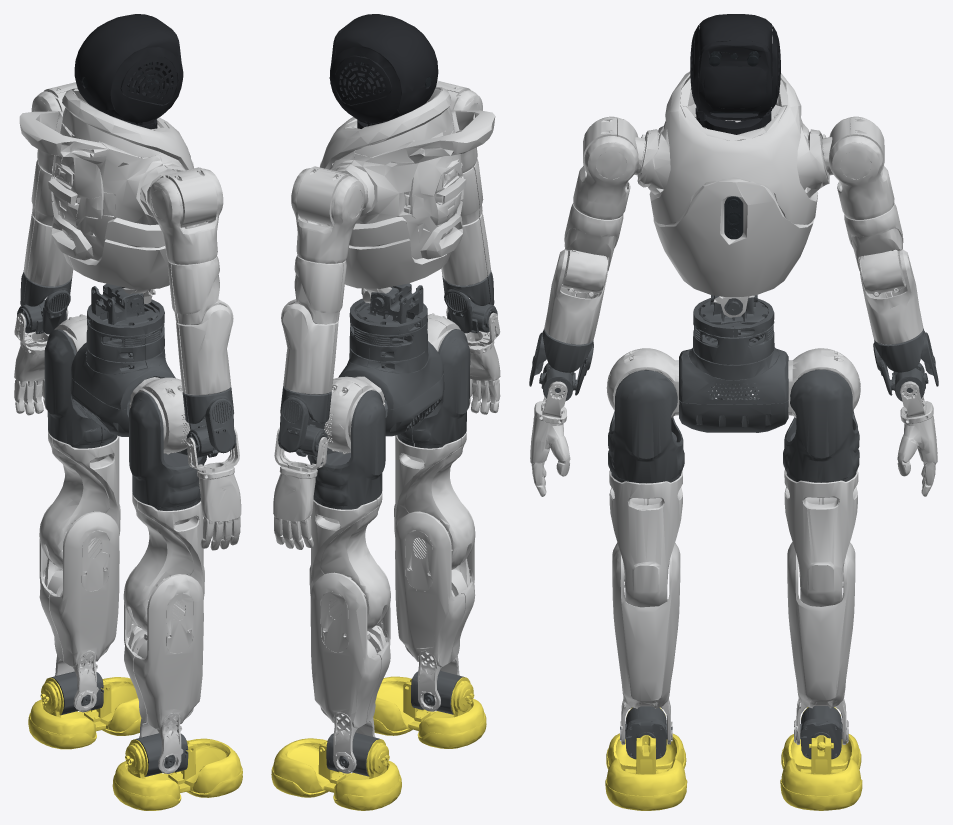
The model's file is x2-ultra.glb.
3 views of the same model, side by side, from view 1: azimuth 30°, elevation 25°; view 2: azimuth 150°, elevation 25°; view 3: azimuth 270°, elevation 25° (orthographic). The views are drawn at different scales.
Visible parts, largest first — view 1: torso_link_visual, left_knee_link_visual, right_knee_link_visual, head_pitch_link_visual, right_ankle_roll_link_visual, left_hip_yaw_link_visual, right_hip_yaw_link_visual, right_hip_roll_link_visual, left_ankle_roll_link_visual, pelvis_visual, waist_yaw_link_visual, left_hip_roll_link_visual (+17 smaller); view 2: torso_link_visual, left_knee_link_visual, right_knee_link_visual, head_pitch_link_visual, left_ankle_roll_link_visual, right_hip_yaw_link_visual, left_hip_yaw_link_visual, left_hip_roll_link_visual, right_ankle_roll_link_visual, pelvis_visual, waist_yaw_link_visual, right_hip_roll_link_visual (+17 smaller); view 3: torso_link_visual, head_pitch_link_visual, pelvis_visual, left_knee_link_visual, right_knee_link_visual, left_hip_roll_link_visual, right_hip_roll_link_visual, left_hip_yaw_link_visual, right_hip_yaw_link_visual, left_ankle_roll_link_visual, right_ankle_roll_link_visual, waist_yaw_link_visual (+20 smaller).
Boxes of the visible parts, <box> form: torso_link_visual: <box>19,88,193,303</box>; left_knee_link_visual: <box>39,504,119,712</box>; right_knee_link_visual: <box>124,567,203,773</box>; head_pitch_link_visual: <box>74,14,183,124</box>; right_ankle_roll_link_visual: <box>112,738,242,810</box>; left_hip_yaw_link_visual: <box>39,431,120,569</box>; right_hip_yaw_link_visual: <box>123,493,204,631</box>; right_hip_roll_link_visual: <box>129,391,206,510</box>; left_ankle_roll_link_visual: <box>28,677,141,749</box>; pelvis_visual: <box>70,337,175,436</box>; waist_yaw_link_visual: <box>86,283,164,369</box>; left_hip_roll_link_visual: <box>44,329,117,448</box>; torso_link_visual: <box>320,86,495,303</box>; left_knee_link_visual: <box>310,565,390,773</box>; right_knee_link_visual: <box>395,504,475,711</box>; head_pitch_link_visual: <box>329,14,438,123</box>; left_ankle_roll_link_visual: <box>271,738,401,810</box>; right_hip_yaw_link_visual: <box>394,431,475,569</box>; left_hip_yaw_link_visual: <box>309,492,390,630</box>; left_hip_roll_link_visual: <box>307,390,385,509</box>; right_ankle_roll_link_visual: <box>373,676,486,748</box>; pelvis_visual: <box>338,336,444,436</box>; waist_yaw_link_visual: <box>349,283,427,368</box>; right_hip_roll_link_visual: <box>397,329,470,448</box>; torso_link_visual: <box>637,70,829,317</box>; head_pitch_link_visual: <box>690,14,780,120</box>; pelvis_visual: <box>679,338,788,432</box>; left_knee_link_visual: <box>787,542,855,744</box>; right_knee_link_visual: <box>612,542,680,744</box>; left_hip_roll_link_visual: <box>783,369,859,482</box>; right_hip_roll_link_visual: <box>608,370,684,483</box>; left_hip_yaw_link_visual: <box>784,470,858,606</box>; right_hip_yaw_link_visual: <box>609,470,682,607</box>; left_ankle_roll_link_visual: <box>780,707,862,810</box>; right_ankle_roll_link_visual: <box>605,707,687,810</box>; waist_yaw_link_visual: <box>693,295,774,364</box>.
Size of the model in its own units: 0.3072 by 1.32 by 0.6416.
